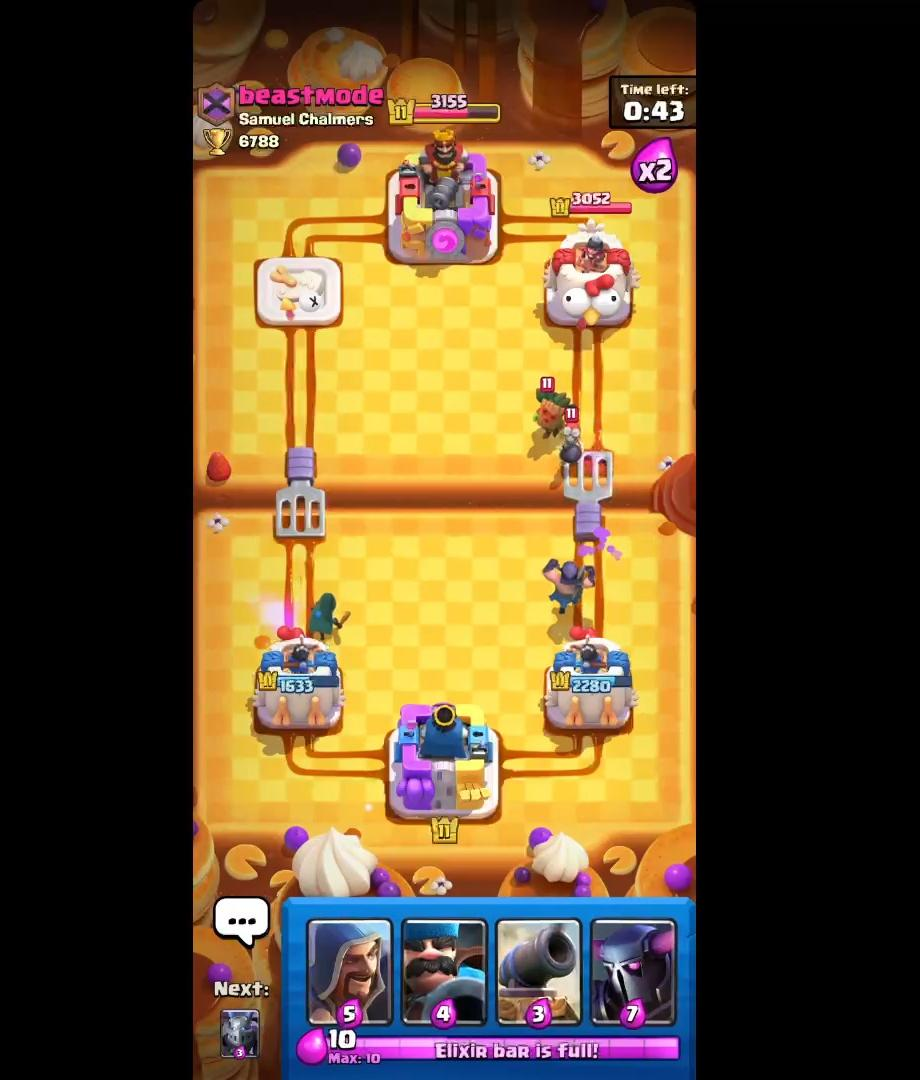Bomber: (552, 408, 589, 462)
Dart Goblin: (528, 371, 581, 449)
